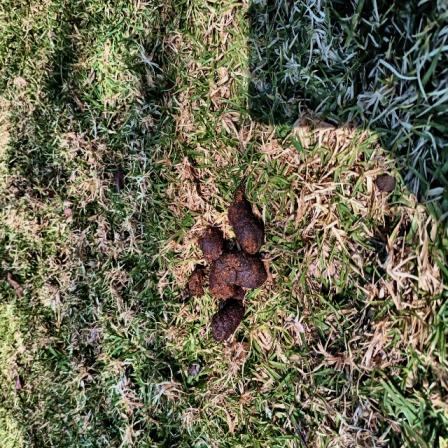dog-poop: (194, 186, 264, 354)
